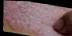plaque psoriasis: (0, 0, 52, 36), (16, 25, 72, 36), (38, 2, 60, 16)
